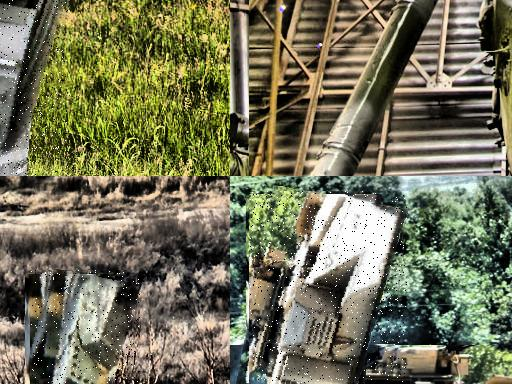tanks: (250, 192, 408, 384), (322, 1, 432, 177), (33, 271, 140, 384), (331, 112, 512, 177)
